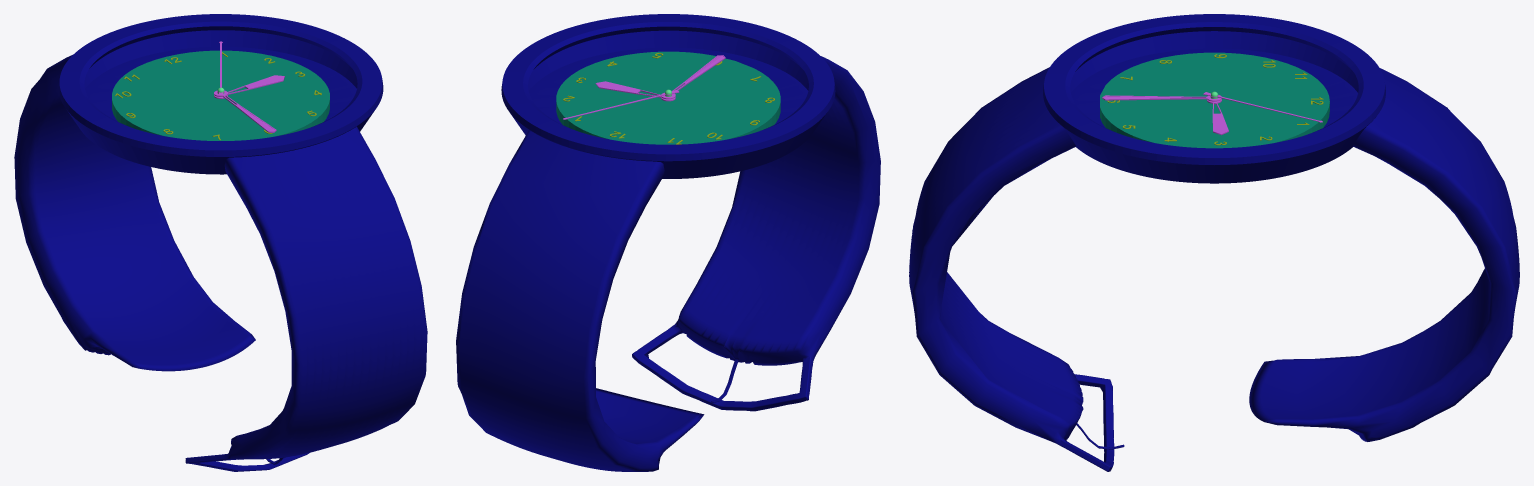
Rendered from watch_complete.obj.
3 views of the same model, side by side, from view 1: azimuth 30°, elevation 25°; view 2: azimuth 150°, elevation 25°; view 3: azimuth 270°, elevation 25° (orthographic). The views are drawn at different scales.
Parts seen in each view (by area): view 1: strap, Lower_Plane, Upper_plane; view 2: strap, Lower_Plane, Upper_plane, Text001; view 3: strap, Lower_Plane, Upper_plane.
Part boxes in pixels (x1,y1,x2,y2): strap: (14,55,427,471); Lower_Plane: (58,14,383,174); Upper_plane: (112,50,329,140); strap: (456,56,880,471); Lower_Plane: (501,14,835,178); Upper_plane: (556,51,780,144); Text001: (563,53,775,144); strap: (909,67,1519,471); Lower_Plane: (1043,14,1385,183); Upper_plane: (1100,52,1329,148).
Bounding box in the file's own units: 89.23 × 107 × 159.
